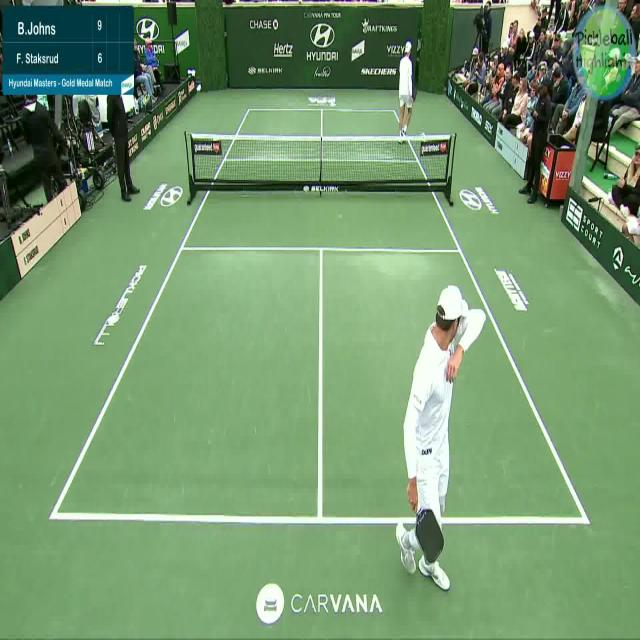Court: (52, 110, 590, 521)
